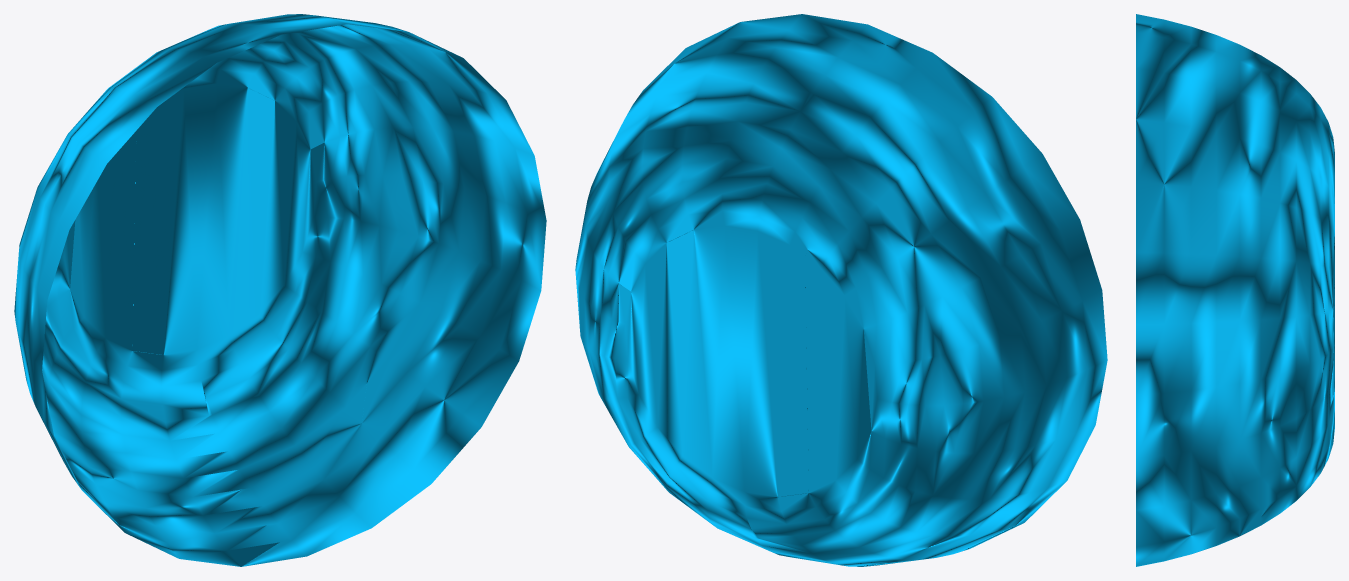
Rendered from model_align.obj.
The picture shows the model from 3 angles, left to right: view 1: azimuth 30°, elevation 25°; view 2: azimuth 150°, elevation 25°; view 3: azimuth 270°, elevation 25°; orthographic projection. The views are drawn at different scales.
Size of the model in its own units: 0.1447 by 0.1447 by 0.0517.
